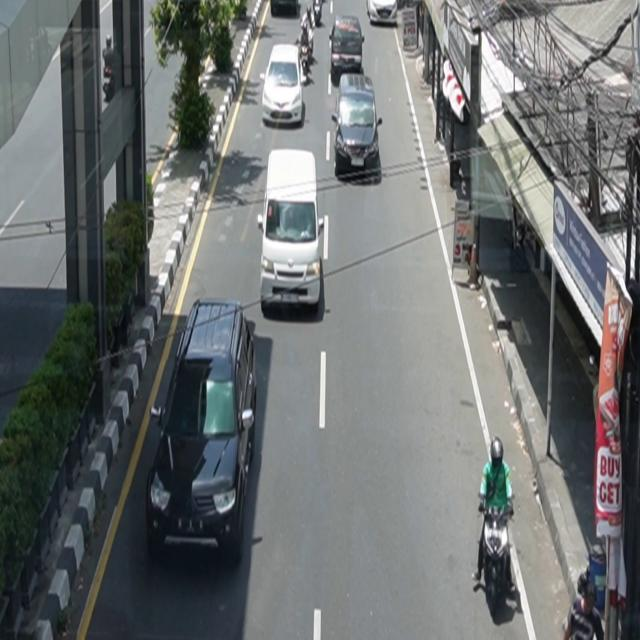car: (146, 298, 258, 564), (258, 149, 324, 313), (332, 74, 383, 177), (261, 44, 305, 127), (367, 1, 399, 26)
